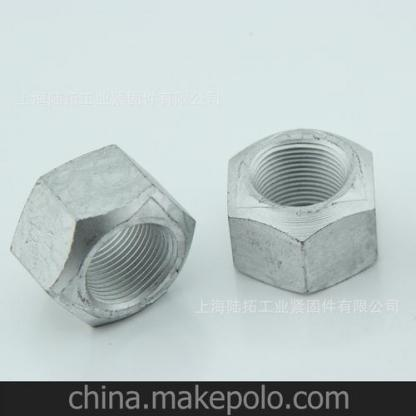FOD: (9, 142, 197, 329), (224, 125, 379, 300)
